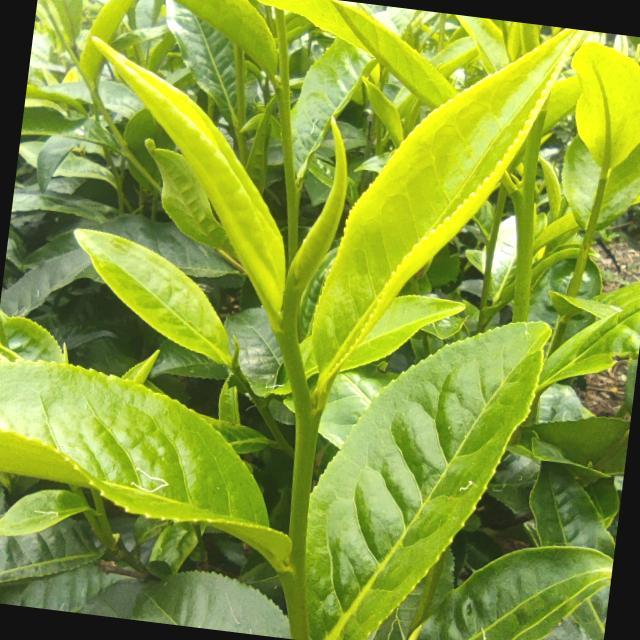Stem: (277, 330, 306, 382)
